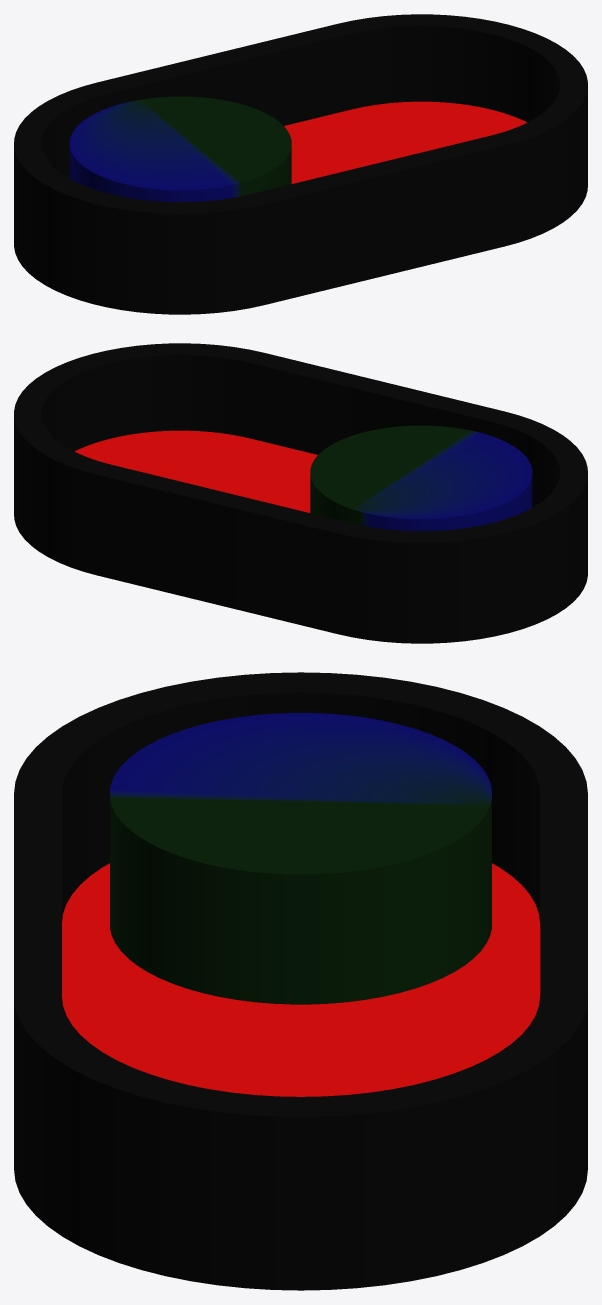
3 renders of one model, top to bottom at view 1: azimuth 30°, elevation 25°; view 2: azimuth 150°, elevation 25°; view 3: azimuth 270°, elevation 25°, orthographic. The views are drawn at different scales.
Visible parts, largest first — view 1: toggle; view 2: toggle; view 3: toggle.
Part boxes in pixels (box(x1,y1,x2,y2)): toggle: box(14, 14, 587, 314); toggle: box(14, 343, 587, 643); toggle: box(14, 672, 587, 1290).
Bounding box in the file's own units: 8.8 × 4.8 × 1.6.
